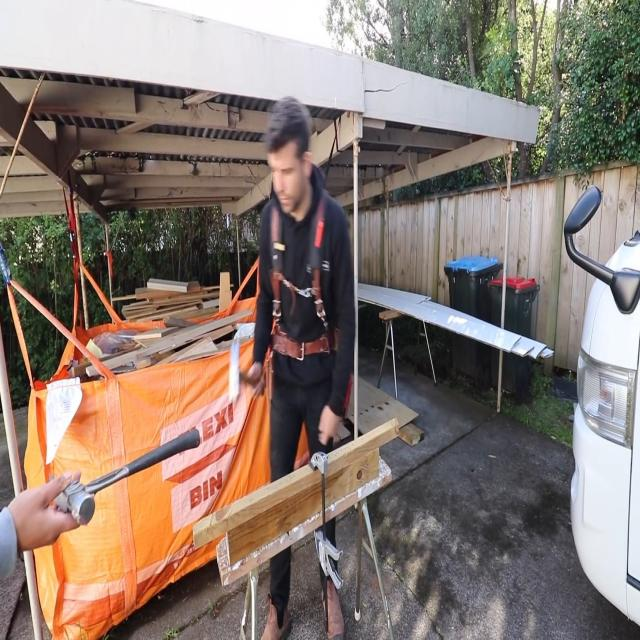hammer: (50, 427, 200, 526)
